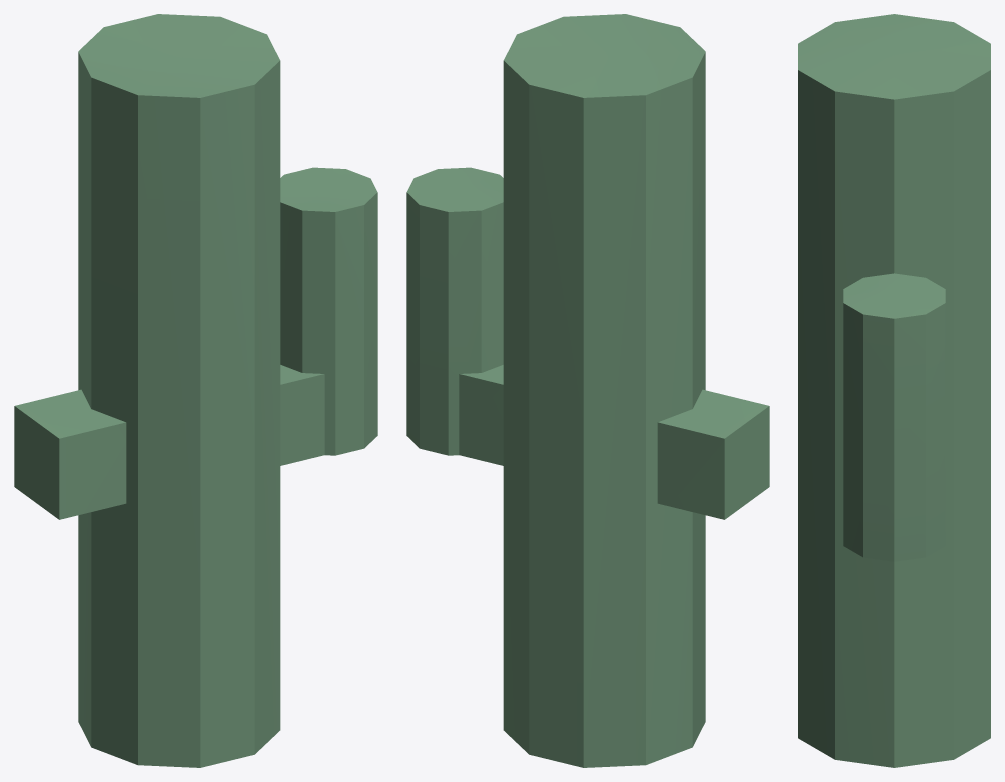
The model's file is cactus-06.glb.
3 renders of one model, left to right at view 1: azimuth 30°, elevation 25°; view 2: azimuth 150°, elevation 25°; view 3: azimuth 270°, elevation 25°, orthographic.
Parts seen in each view (by area): view 1: world; view 2: world; view 3: world.
Part boxes in pixels (x1=…): world: x1=14, y1=14, x2=377, y2=767; world: x1=406, y1=14, x2=769, y2=767; world: x1=798, y1=14, x2=990, y2=767.
Bounding box in the file's own units: 0.645 × 1.24 × 0.3234.
